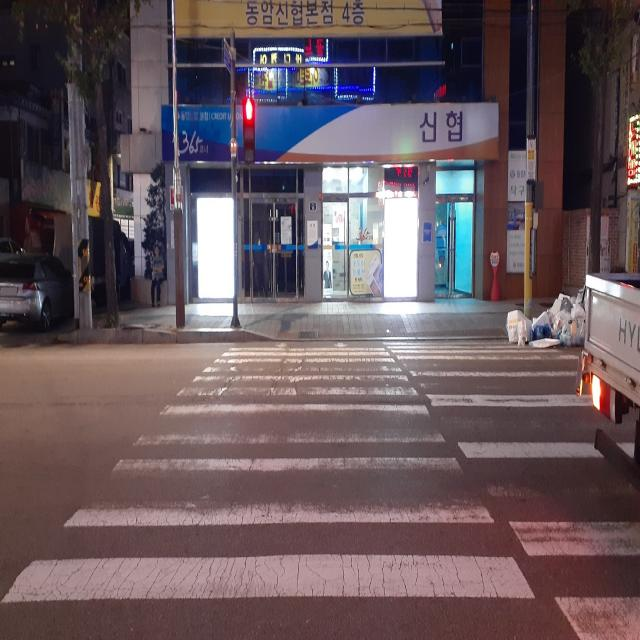빨간불: (241, 94, 256, 167)
횡단보도: (0, 336, 640, 640)
